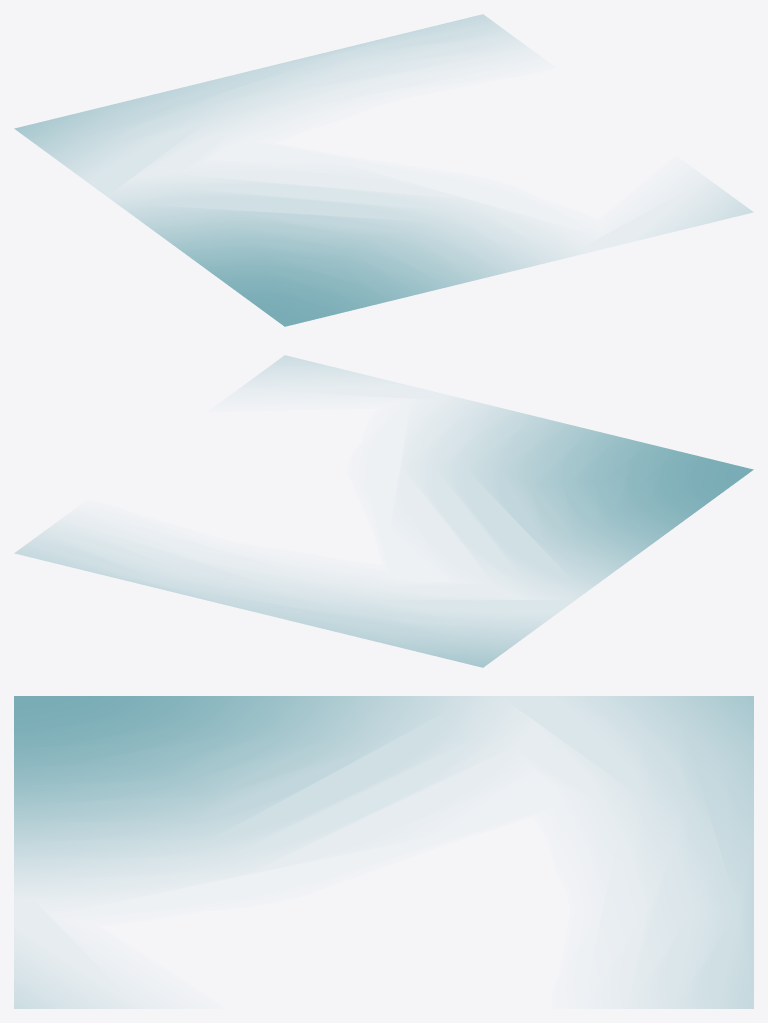
3 views of the same model, one above another, from view 1: azimuth 30°, elevation 25°; view 2: azimuth 150°, elevation 25°; view 3: azimuth 270°, elevation 25° (orthographic). The views are drawn at different scales.
Visible parts, largest first — view 1: city; view 2: city; view 3: city.
Part boxes in pixels (left/top/right/bottom): city: left=14, top=14, right=753, bottom=326; city: left=14, top=355, right=753, bottom=667; city: left=14, top=696, right=753, bottom=1008.
Bounding box in the file's own units: 500 × 0 × 500.
